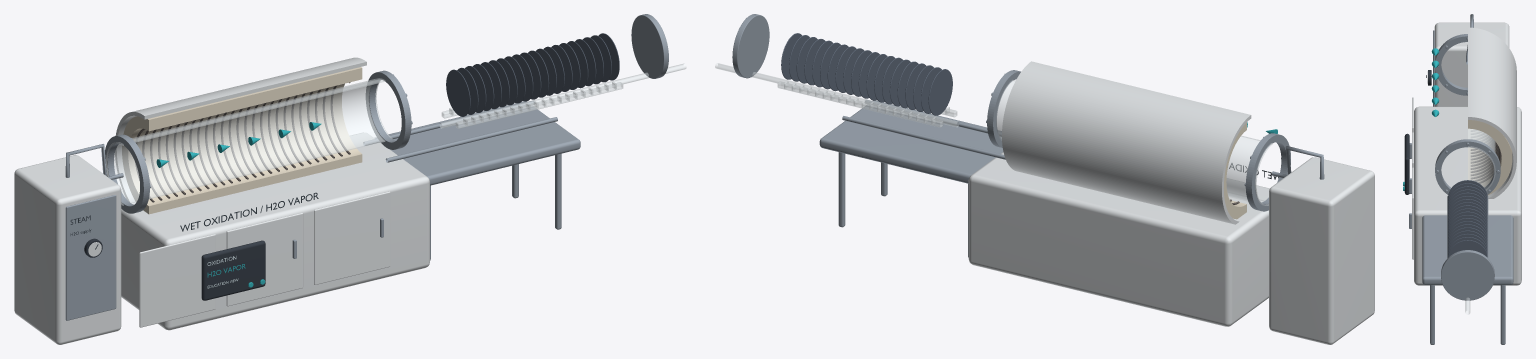
File: wet_01_prepare.glb
The picture shows the model from 3 angles, left to right: view 1: azimuth 30°, elevation 25°; view 2: azimuth 150°, elevation 25°; view 3: azimuth 270°, elevation 25°; orthographic projection. The views are drawn at different scales.
Visible parts, largest first — view 1: Furnace base cabinet.001, Cutaway insulation.001, Quartz process tube - educational cutaway.001, Gas source module.001, Load station.001, Service door.005, Source front.001, Service door.003, Service door.004, Cutaway metal shell.001, Control panel.001, Tube end cap.001 (+9 smaller); view 2: Furnace base cabinet.001, Cutaway metal shell.001, Gas source module.001, Load station.001, Quartz process tube - educational cutaway.001, Tube end cap.001, End flange.002, Quartz boat rail.003, Cantilever paddle.001, End flange.003, Silicon wafer 00.001, Loader rail.003 (+3 smaller); view 3: Furnace base cabinet.001, Cutaway metal shell.001, Load station.001, Gas source module.001, Tube end cap.001, Cutaway insulation.001, Quartz process tube - educational cutaway.001, End flange.003, End flange.002, Silicon wafer 19.001, Load table leg.007, Control panel.001 (+22 smaller).
Part boxes in pixels (x1,y1,x2,y2): Furnace base cabinet.001: (121,132,429,330); Cutaway insulation.001: (122,67,362,214); Quartz process tube - educational cutaway.001: (106,78,392,205); Gas source module.001: (14,155,121,344); Load station.001: (375,101,580,185); Service door.005: (314,191,390,284); Source front.001: (65,195,116,320); Service door.003: (139,234,215,327); Service door.004: (226,213,303,306); Cutaway metal shell.001: (115,57,366,204); Control panel.001: (201,240,265,300); Tube end cap.001: (631,14,668,78); Furnace base cabinet.001: (968,152,1269,326); Cutaway metal shell.001: (1002,61,1251,224); Gas source module.001: (1269,157,1374,344); Load station.001: (819,100,1003,183); Quartz process tube - educational cutaway.001: (996,80,1272,205); Tube end cap.001: (732,14,769,78); End flange.002: (1245,133,1290,211); Quartz boat rail.003: (777,81,943,127); Cantilever paddle.001: (715,63,958,127); End flange.003: (987,70,1020,147); Silicon wafer 00.001: (928,69,952,115); Loader rail.003: (842,116,1005,159); Furnace base cabinet.001: (1414,106,1521,285); Cutaway metal shell.001: (1468,27,1516,198); Load station.001: (1422,215,1513,284); Gas source module.001: (1434,22,1509,106); Tube end cap.001: (1441,250,1494,300); Cutaway insulation.001: (1468,120,1512,195); Quartz process tube - educational cutaway.001: (1468,128,1495,190); End flange.003: (1435,139,1500,194); End flange.002: (1435,34,1467,95); Silicon wafer 19.001: (1448,240,1487,257); Load table leg.007: (1500,285,1505,344); Control panel.001: (1404,133,1409,194).
Size of the model in its own units: 14.85 by 4.23 by 2.86.
